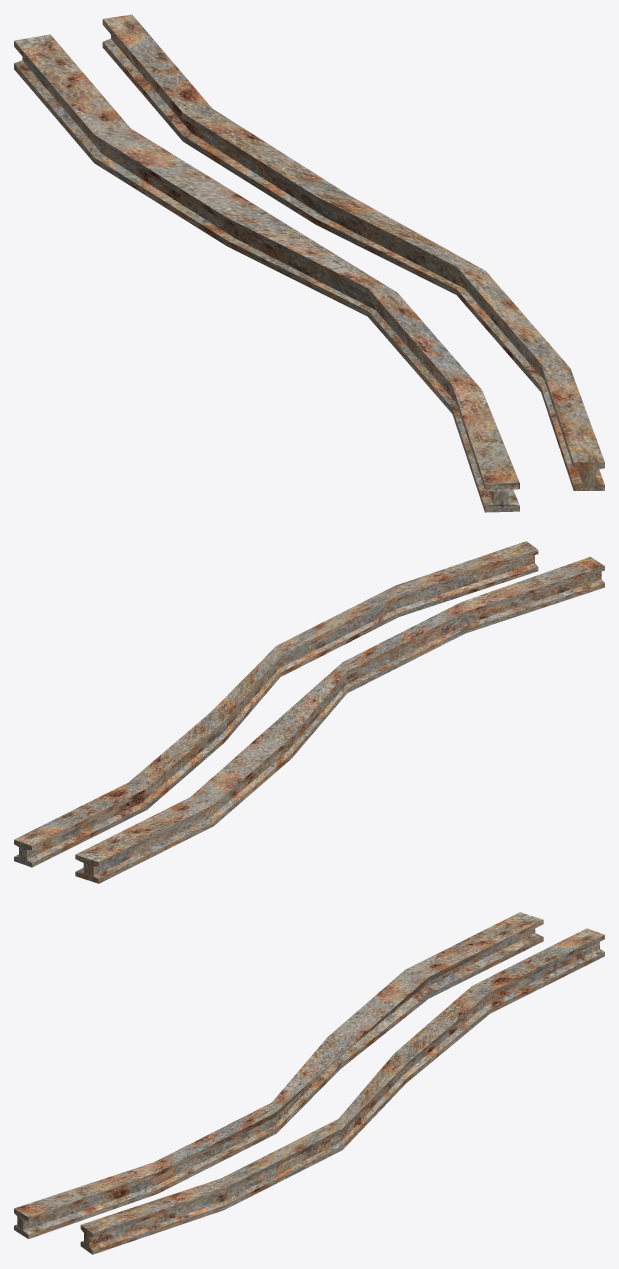
File: mineRails_curved.FBX
The picture shows the model from 3 angles, top to bottom: view 1: azimuth 30°, elevation 25°; view 2: azimuth 150°, elevation 25°; view 3: azimuth 330°, elevation 25°; orthographic projection. The views are drawn at different scales.
Parts seen in each view (by area): view 1: mineRails; view 2: mineRails; view 3: mineRails.
Part boxes in pixels (x1=…): mineRails: x1=14, y1=14, x2=604, y2=512; mineRails: x1=14, y1=541, x2=604, y2=883; mineRails: x1=14, y1=912, x2=604, y2=1254.
Size of the model in its own units: 112 by 13.93 by 512.
Materials: 1 (1 with a texture image).
